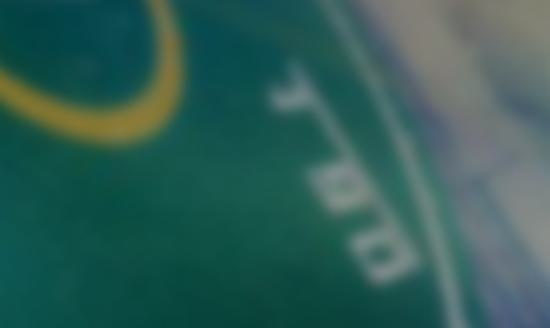Apron: (1, 1, 200, 155)
